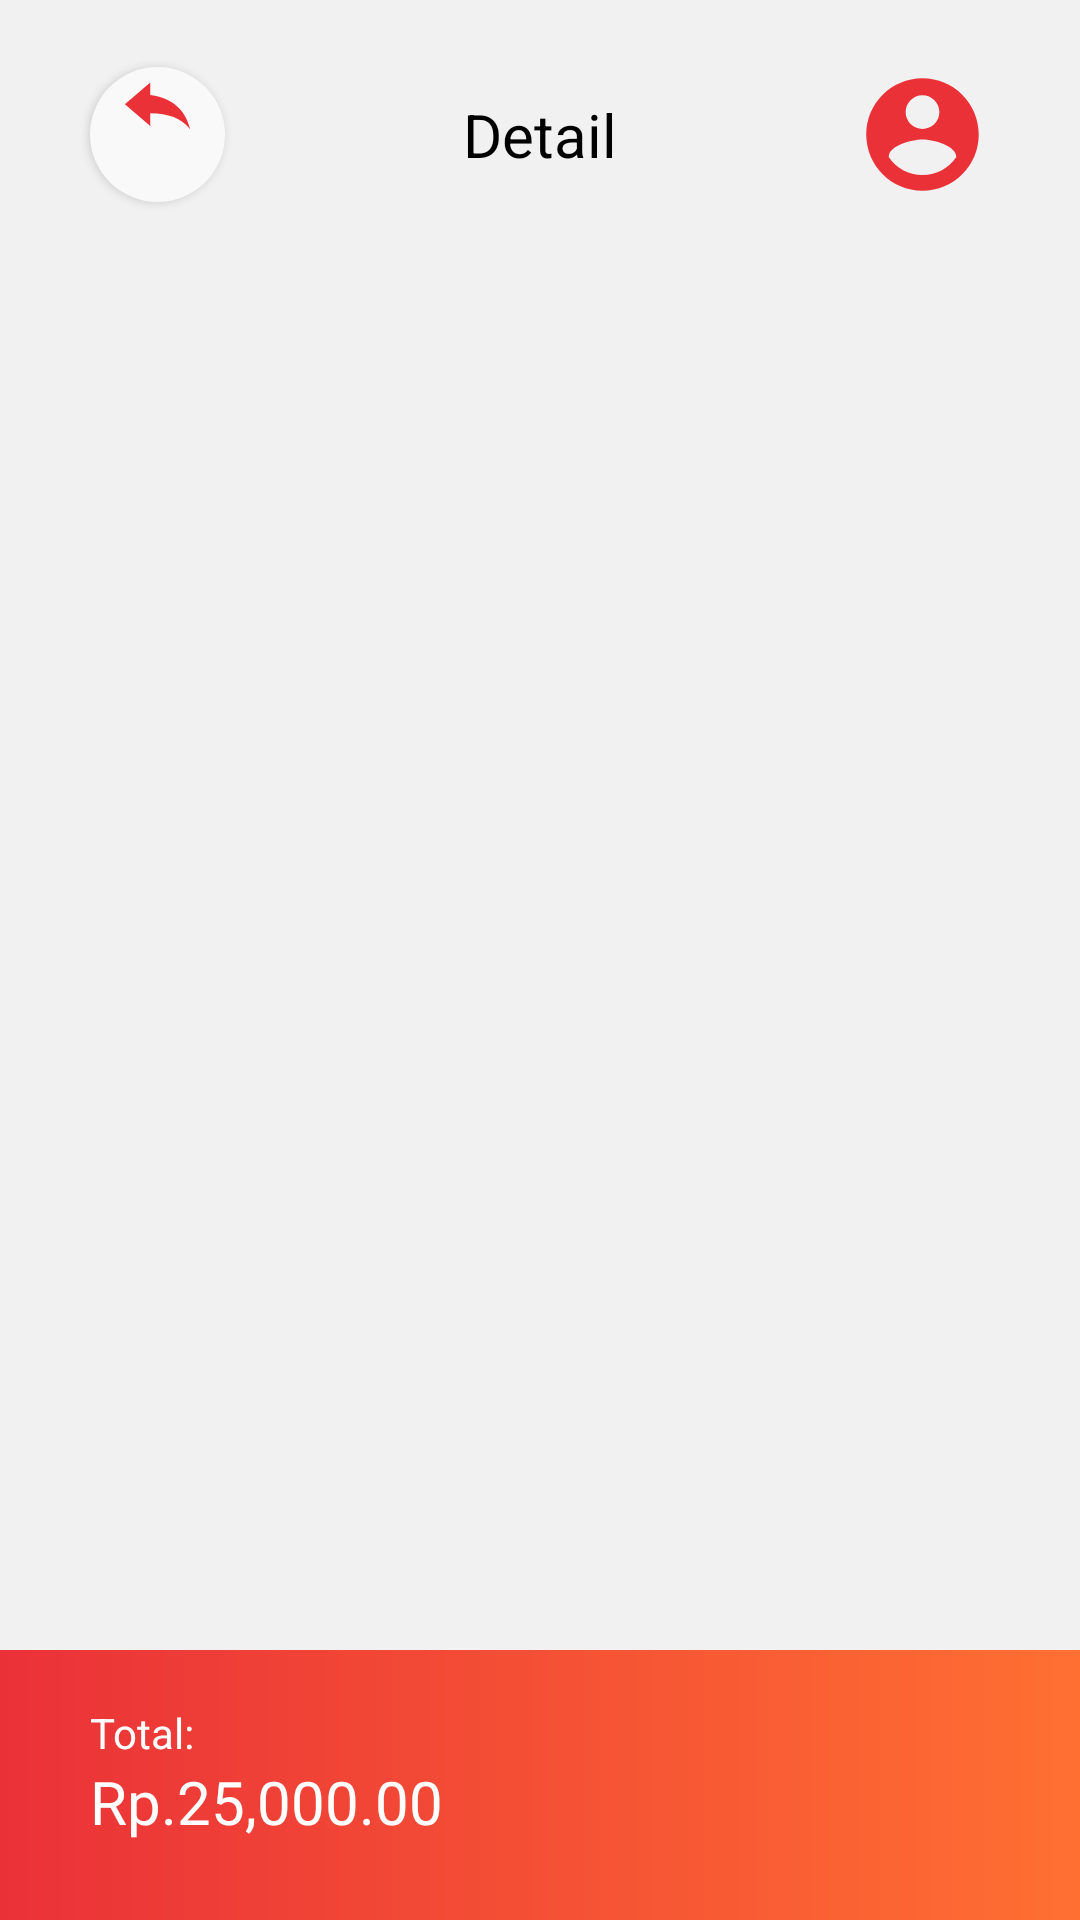

Icons on this 1080w x 1920h Android screen, each with its box as (x1, y1, x2, y2):
profile: (866, 78, 979, 191)
